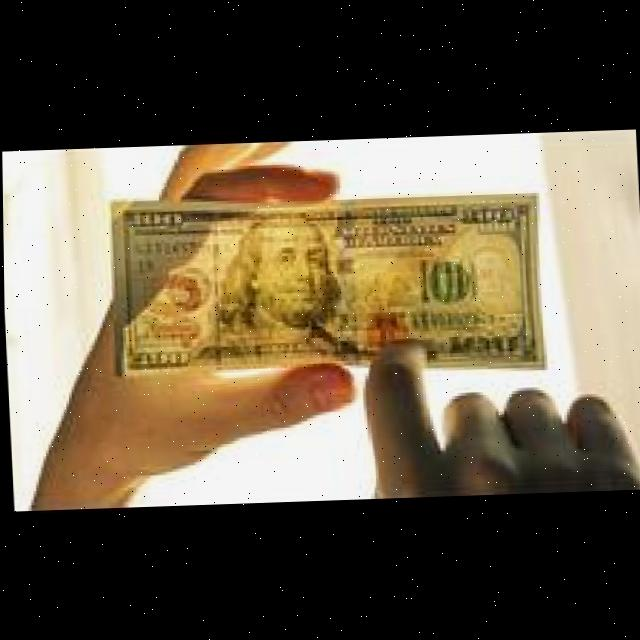banknote: (104, 184, 546, 382), (447, 320, 523, 366), (126, 338, 195, 376), (458, 197, 519, 235), (126, 206, 191, 236)
